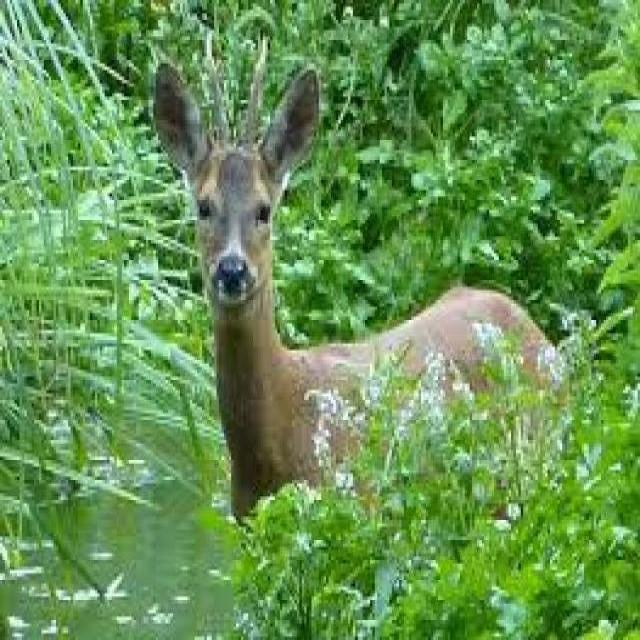deer: (133, 24, 328, 477)
